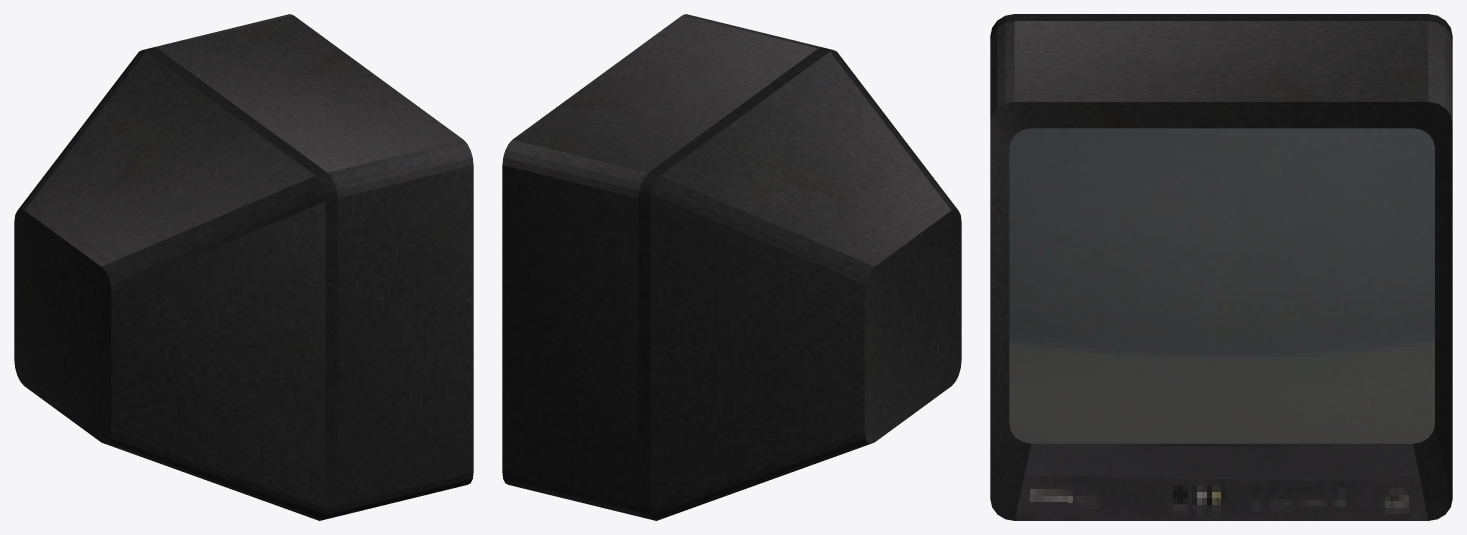
3 views of the same model, side by side, from view 1: azimuth 30°, elevation 25°; view 2: azimuth 150°, elevation 25°; view 3: azimuth 270°, elevation 25° (orthographic). The views are drawn at different scales.
Parts seen in each view (by area): view 1: Cube; view 2: Cube; view 3: Cube.
Boxes of the visible parts, box(x1,y1,x2,y2) form: Cube: box(14, 14, 473, 520); Cube: box(502, 14, 961, 520); Cube: box(990, 14, 1452, 520).
Size of the model in its own units: 0.5858 by 0.6096 by 0.6096.
1 material, 1 textured.
